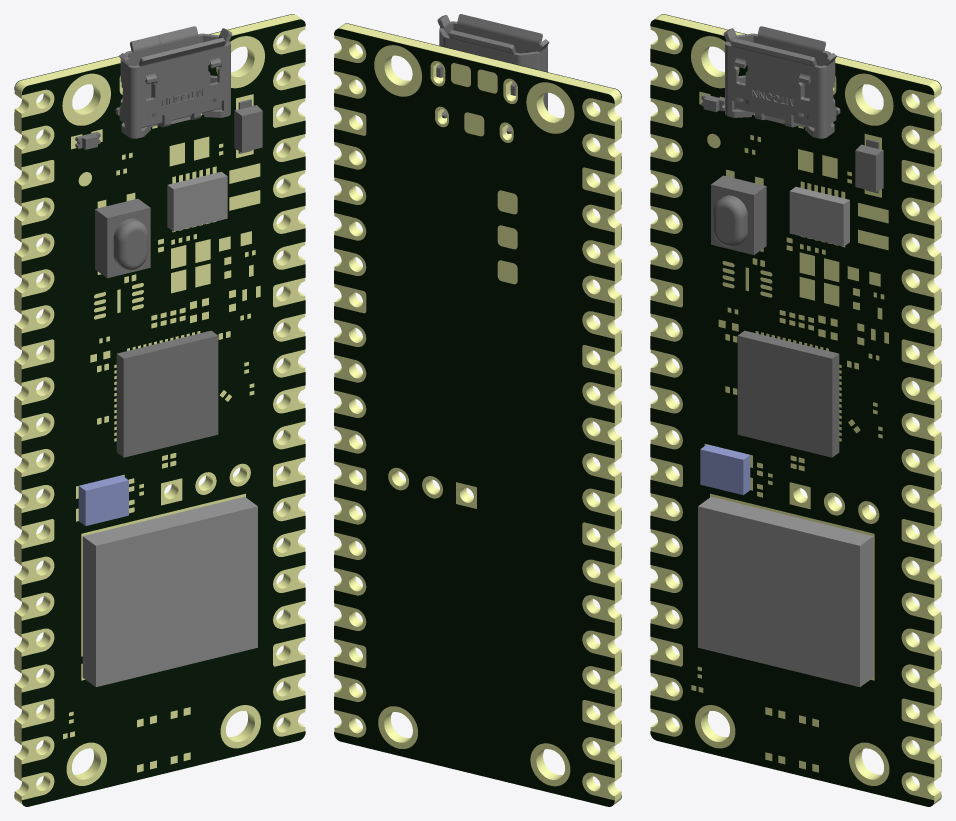
The model's file is PicoW.obj.
The picture shows the model from 3 angles, left to right: view 1: azimuth 30°, elevation 25°; view 2: azimuth 150°, elevation 25°; view 3: azimuth 330°, elevation 25°; orthographic projection.
Parts seen in each view (by area): view 1: rpi-picow-r3-2_brd_Shapes_SOLDERMASK_TOP, rpi-picow-r3-2_brd_Shapes_Dielectric, rpi-picow-r3-2_brd_Symbols_SH1_RF_SHIELD_PICOW, rpi-picow-r3-2_brd_Symbols_U1_RPI_RP2040, rpi-picow-r3-2_brd_Symbols_J1_FCI_10103594-0001LF, rpi-picow-r3-2_brd_Symbols_SW1_TONEPARTS_TP-1221U-K9K5325, rpi-picow-r3-2_brd_Symbols_U2_RT-WDFN-14AL, rpi-picow-r3-2_brd_Symbols_X1_XTAL320X250X100, rpi-picow-r3-2_brd_Symbols_D1_SOD123FL; view 2: rpi-picow-r3-2_brd_Shapes_SOLDERMASK_BOTTOM, rpi-picow-r3-2_brd_Shapes_Dielectric, rpi-picow-r3-2_brd_Symbols_J1_FCI_10103594-0001LF, rpi-picow-r3-2_brd_Shapes_SOLDERMASK_TOP; view 3: rpi-picow-r3-2_brd_Shapes_SOLDERMASK_TOP, rpi-picow-r3-2_brd_Shapes_Dielectric, rpi-picow-r3-2_brd_Symbols_SH1_RF_SHIELD_PICOW, rpi-picow-r3-2_brd_Symbols_U1_RPI_RP2040, rpi-picow-r3-2_brd_Symbols_J1_FCI_10103594-0001LF, rpi-picow-r3-2_brd_Symbols_SW1_TONEPARTS_TP-1221U-K9K5325, rpi-picow-r3-2_brd_Symbols_U2_RT-WDFN-14AL, rpi-picow-r3-2_brd_Symbols_X1_XTAL320X250X100, rpi-picow-r3-2_brd_Symbols_D1_SOD123FL.
Part boxes in pixels (x1,y1,x2,y2): rpi-picow-r3-2_brd_Shapes_SOLDERMASK_TOP: (21,19,305,806); rpi-picow-r3-2_brd_Shapes_Dielectric: (14,14,305,804); rpi-picow-r3-2_brd_Symbols_SH1_RF_SHIELD_PICOW: (82,496,257,686); rpi-picow-r3-2_brd_Symbols_U1_RPI_RP2040: (116,330,218,457); rpi-picow-r3-2_brd_Symbols_J1_FCI_10103594-0001LF: (115,26,232,138); rpi-picow-r3-2_brd_Symbols_SW1_TONEPARTS_TP-1221U-K9K5325: (95,198,150,278); rpi-picow-r3-2_brd_Symbols_U2_RT-WDFN-14AL: (167,171,227,231); rpi-picow-r3-2_brd_Symbols_X1_XTAL320X250X100: (78,475,128,525); rpi-picow-r3-2_brd_Symbols_D1_SOD123FL: (234,99,262,153); rpi-picow-r3-2_brd_Shapes_SOLDERMASK_BOTTOM: (334,28,614,806); rpi-picow-r3-2_brd_Shapes_Dielectric: (334,23,621,804); rpi-picow-r3-2_brd_Symbols_J1_FCI_10103594-0001LF: (436,14,549,133); rpi-picow-r3-2_brd_Shapes_SOLDERMASK_TOP: (345,23,621,799); rpi-picow-r3-2_brd_Shapes_SOLDERMASK_TOP: (650,19,934,806); rpi-picow-r3-2_brd_Shapes_Dielectric: (650,14,941,804); rpi-picow-r3-2_brd_Symbols_SH1_RF_SHIELD_PICOW: (698,496,873,686); rpi-picow-r3-2_brd_Symbols_U1_RPI_RP2040: (737,330,839,457); rpi-picow-r3-2_brd_Symbols_J1_FCI_10103594-0001LF: (723,26,840,138); rpi-picow-r3-2_brd_Symbols_SW1_TONEPARTS_TP-1221U-K9K5325: (711,175,766,254); rpi-picow-r3-2_brd_Symbols_U2_RT-WDFN-14AL: (789,186,849,246); rpi-picow-r3-2_brd_Symbols_X1_XTAL320X250X100: (700,444,750,495); rpi-picow-r3-2_brd_Symbols_D1_SOD123FL: (855,139,883,193).
Bounding box in the file's own units: 21 × 52.35 × 3.66.
